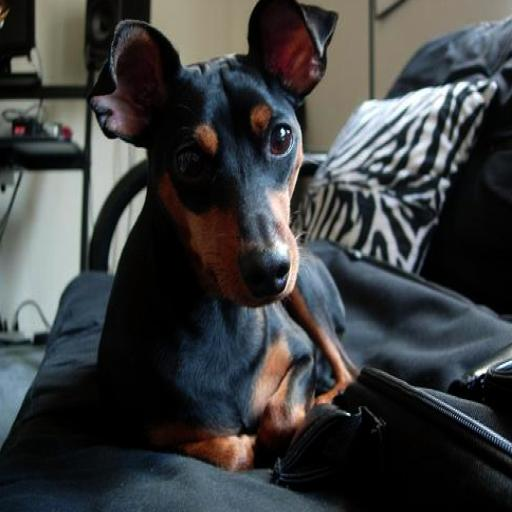dog_face: (95, 0, 327, 307)
